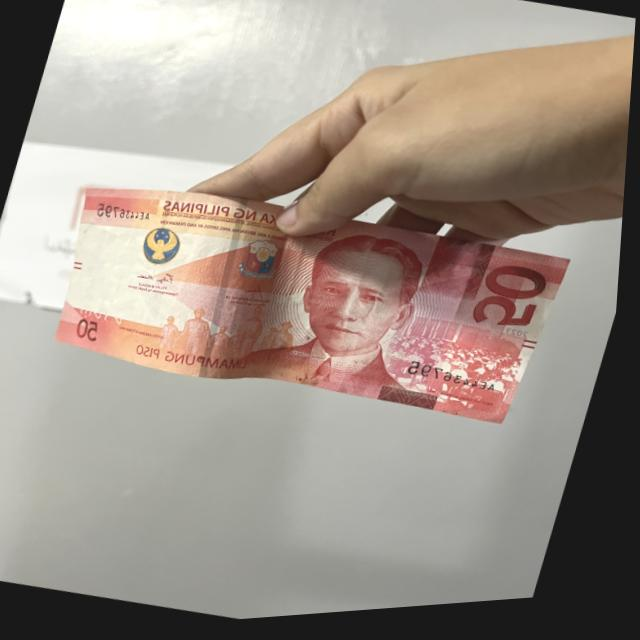see_through_mark: (195, 205, 260, 383), (63, 295, 145, 336)
value: (464, 260, 567, 353)
